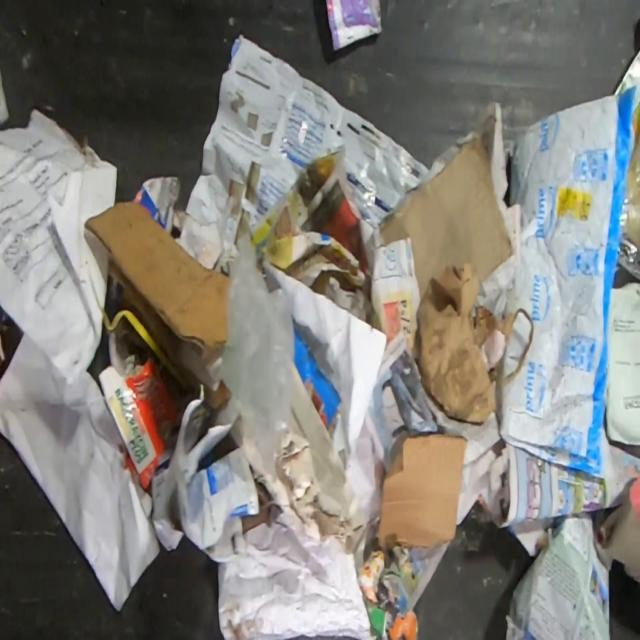cardboard: (84, 200, 234, 412), (378, 130, 514, 304), (97, 353, 178, 490), (378, 433, 469, 548)
rigid_plastic: (182, 447, 260, 563)
soft_plastic: (175, 34, 459, 278), (498, 83, 637, 480), (214, 232, 296, 485), (325, 0, 383, 52)
